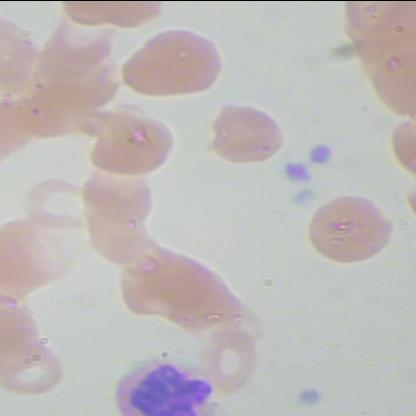Platelets: (305, 141, 339, 168), (290, 382, 324, 408), (280, 161, 312, 183), (288, 185, 320, 207)
RBC: (122, 27, 226, 103), (86, 107, 190, 183), (306, 190, 397, 264), (204, 98, 288, 164), (204, 322, 266, 396), (81, 168, 156, 228), (46, 11, 121, 71), (24, 173, 98, 233), (0, 339, 72, 399)
WBC: (109, 356, 222, 415)
